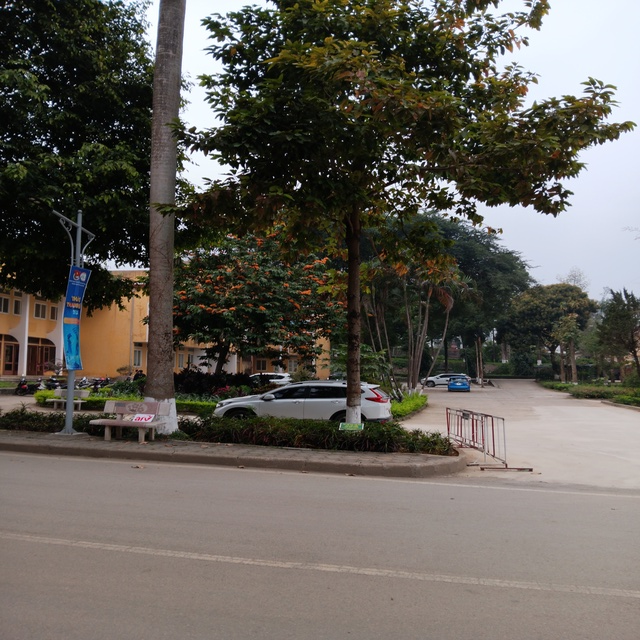gheda: (92, 393, 167, 450)
